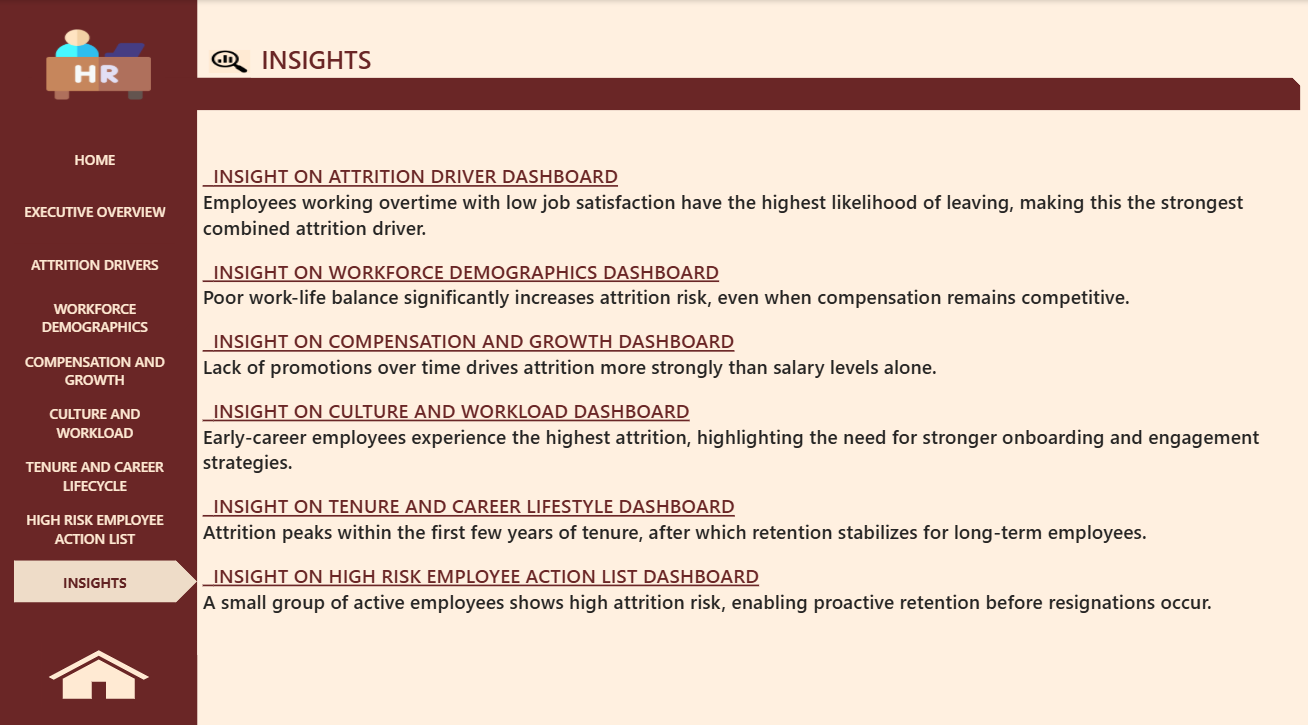

Layout of this report page (visuals, bound fields, positions):
{"tool":"powerbi","page":{"name":"INSIGHTS","canvas":[1280,720],"ordinal":8},"visuals":[{"type":"shape","box":[0,0,190.4,720.8],"z":0},{"type":"image","box":[40.4,618.9,111.1,63.5],"z":1000},{"type":"shape","box":[0,75,1255.2,31.7],"z":2000},{"type":"textbox","box":[180.3,36.1,251,44.7],"z":3000},{"type":"textbox","box":[190.4,116.9,1064.8,513.6],"z":4000},{"type":"pageNavigator","box":[13,132.7,177.5,455.9],"z":5000},{"type":"image","box":[27.4,26,134.2,72.1],"z":5001},{"type":"image","box":[202,43.3,40.4,31.7],"z":5002}]}

Visuals, with their boxes in screenshot pixels (x1, y1, x2, y2), scaled from the page's 1280x720 canvas onto the 1308x725 screenshot:
shape: (left=0, top=0, right=195, bottom=724)
image: (left=41, top=623, right=155, bottom=687)
shape: (left=0, top=76, right=1283, bottom=107)
textbox: (left=184, top=36, right=441, bottom=81)
textbox: (left=195, top=118, right=1283, bottom=635)
pageNavigator: (left=13, top=134, right=195, bottom=593)
image: (left=28, top=26, right=165, bottom=99)
image: (left=206, top=44, right=248, bottom=76)
